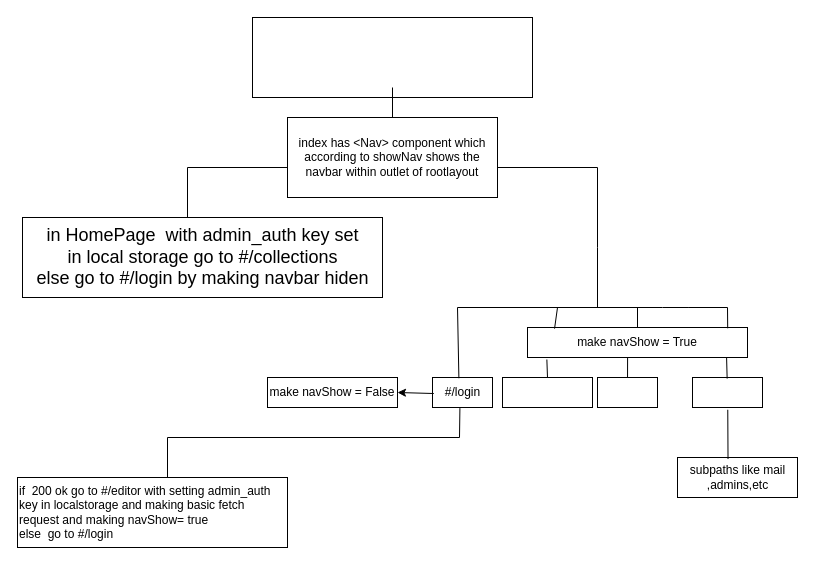
The diagram is 815 pixels wide and 565 high, and some of its shapes have lost their labels. Here are the shapes that lost their labels. From the top down, the centre of each, then its label:
At [392,57]: "/_/ rootLayout holds global state also showNav = False by default".
At [547,392]: "#/collections".
At [627,392]: "#/logs".
At [727,392]: "#/settings".
